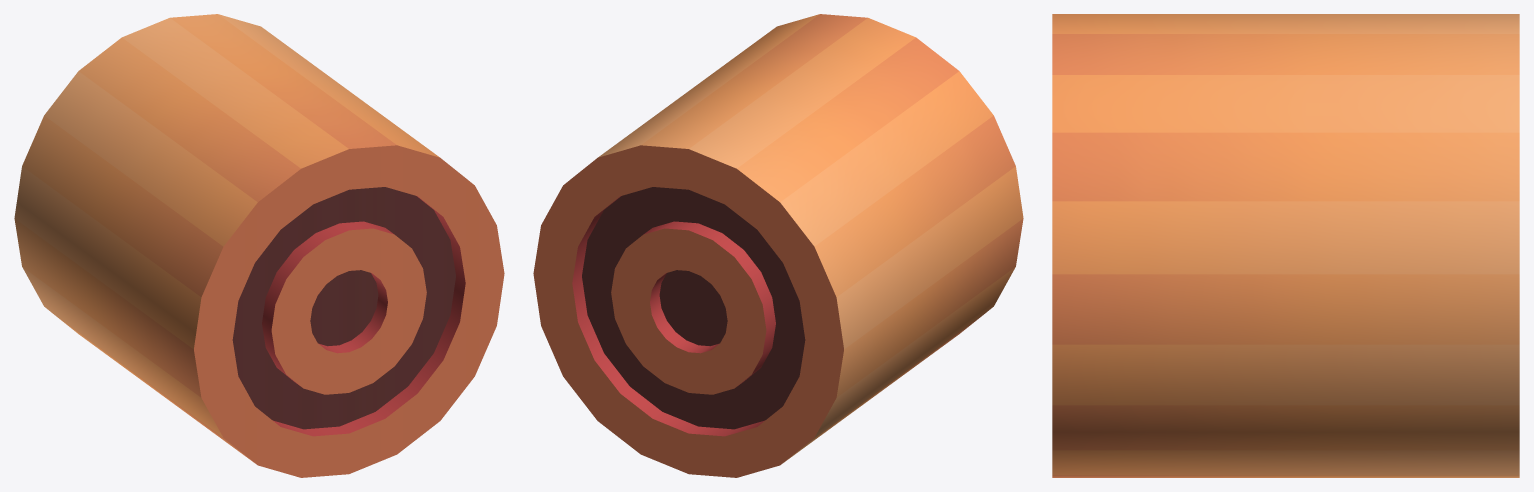
Rendered from Roll.fbx.
3 renders of one model, left to right at view 1: azimuth 30°, elevation 25°; view 2: azimuth 150°, elevation 25°; view 3: azimuth 270°, elevation 25°, orthographic. The views are drawn at different scales.
Parts seen in each view (by area): view 1: pCylinder1; view 2: pCylinder1; view 3: pCylinder1.
Part boxes in pixels (<box>): pCylinder1: <box>14,14,504,477</box>; pCylinder1: <box>533,14,1023,477</box>; pCylinder1: <box>1052,14,1519,477</box>.
Bounding box in the file's own units: 1.6 × 1.6 × 1.6.
